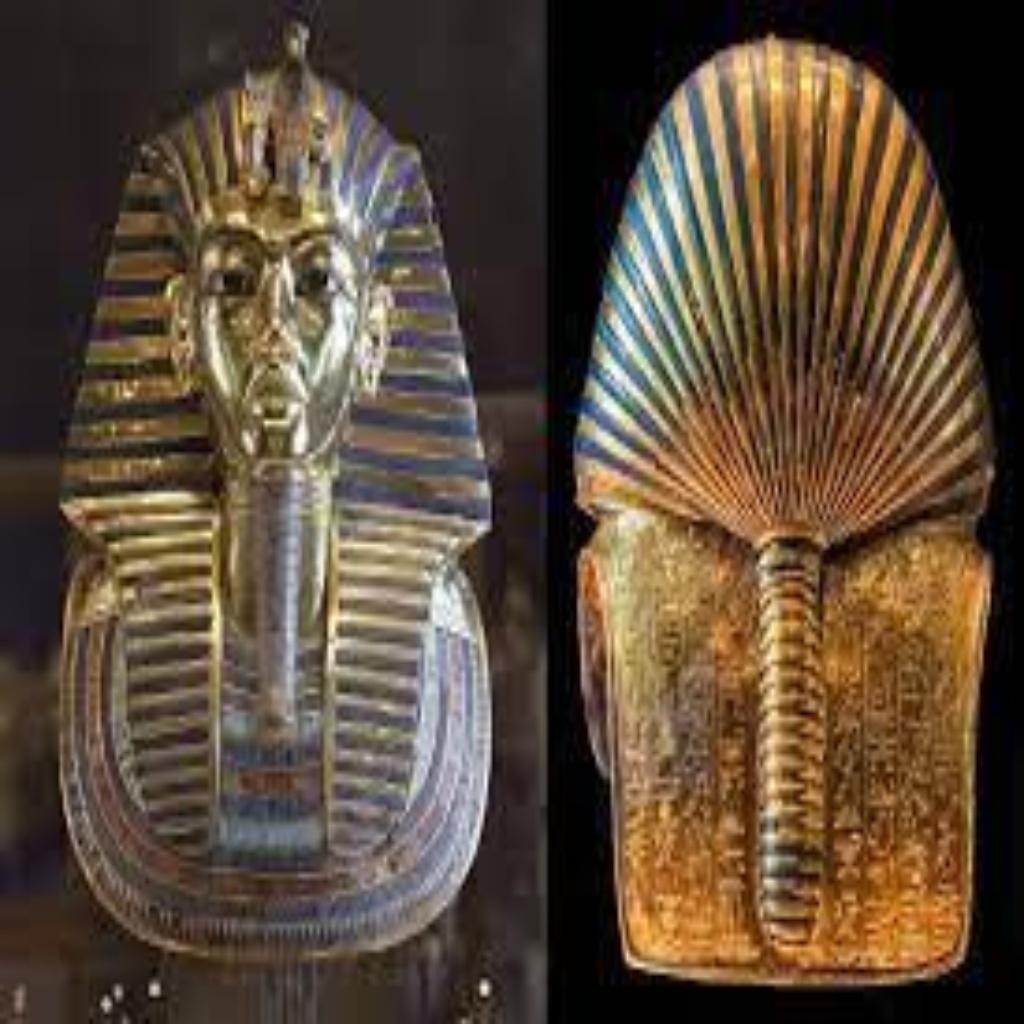Mask of Tutankhamun: (52, 16, 495, 962), (566, 35, 994, 984)
